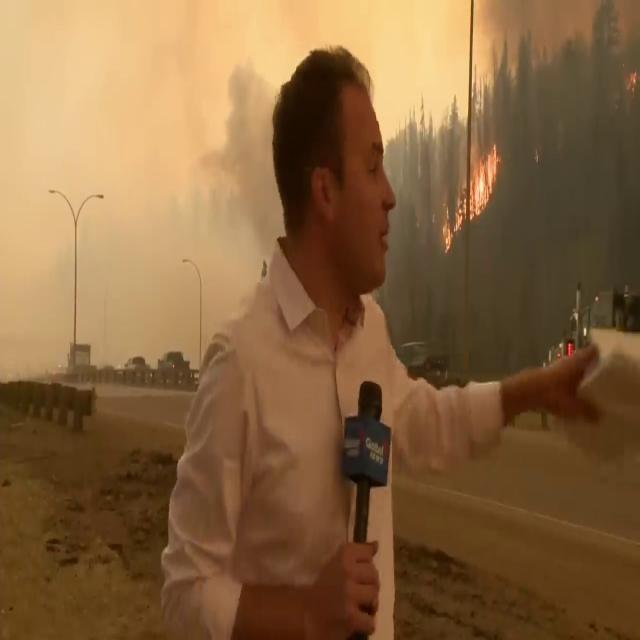Fire: (448, 136, 500, 242)
Smoke: (487, 8, 640, 202), (175, 35, 288, 255)
